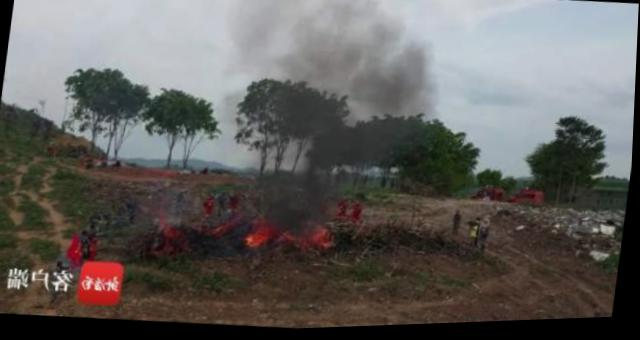fire: (241, 214, 339, 261)
